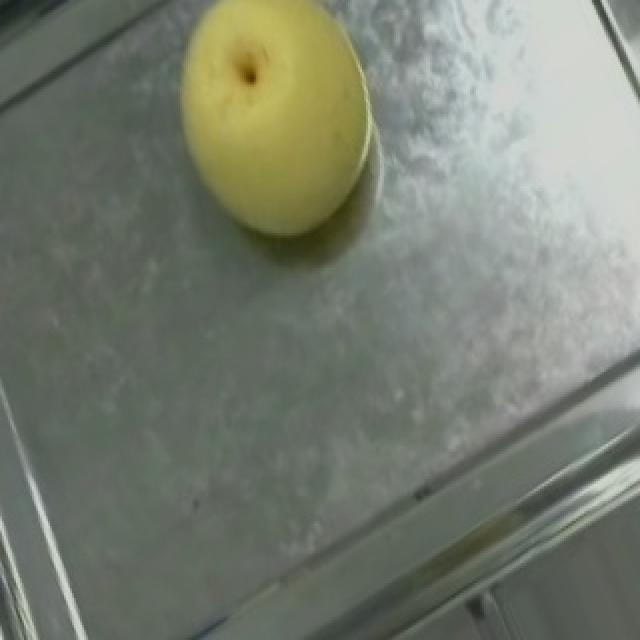Fruit: (130, 0, 416, 278)
